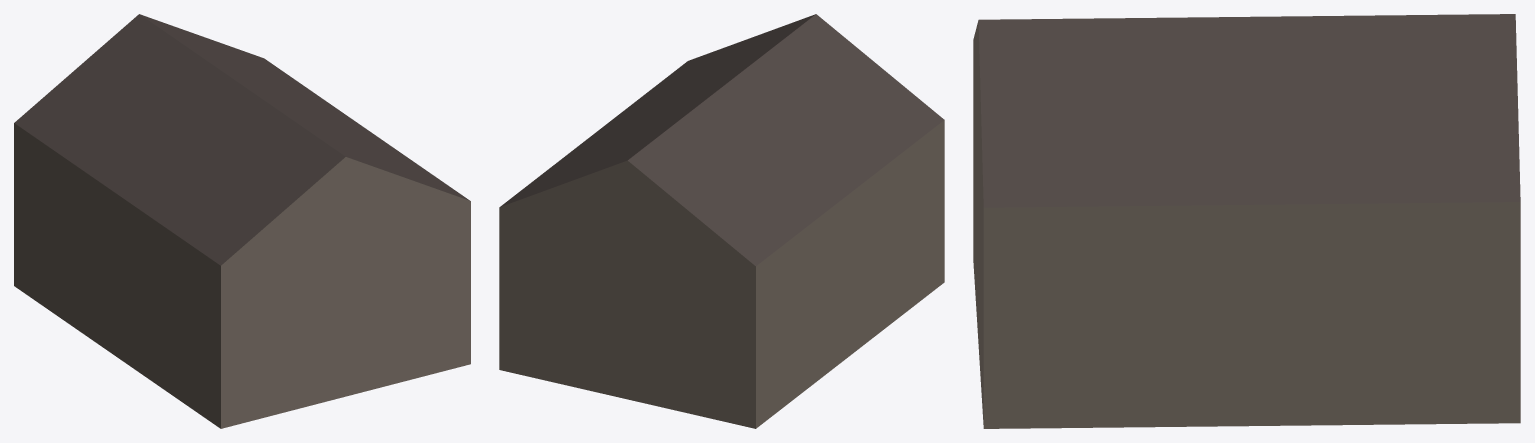
3 renders of one model, left to right at view 1: azimuth 30°, elevation 25°; view 2: azimuth 150°, elevation 25°; view 3: azimuth 270°, elevation 25°, orthographic. The views are drawn at different scales.
Parts seen in each view (by area): view 1: HP-w859447966; view 2: HP-w859447966; view 3: HP-w859447966.
Part boxes in pixels (x1,y1,x2,y2): HP-w859447966: (14, 14, 470, 428); HP-w859447966: (499, 14, 944, 428); HP-w859447966: (973, 14, 1520, 428).
Size of the model in its own units: 10.1 by 8.82 by 13.45.
